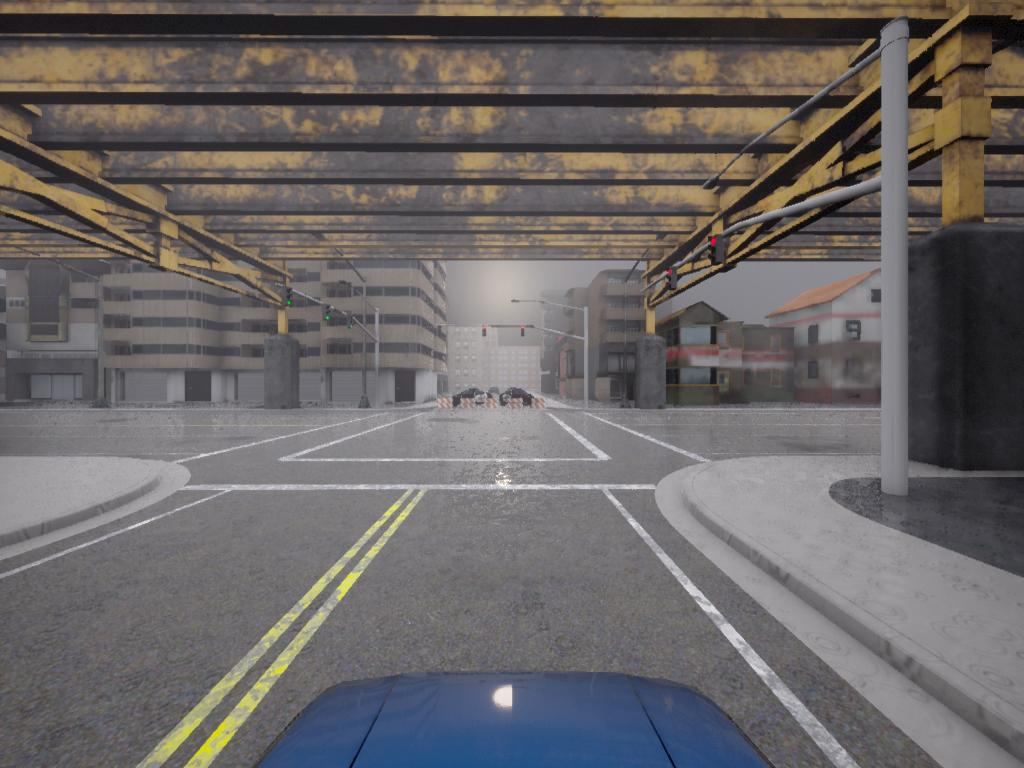traffic_light: (706, 233, 728, 267), (663, 267, 679, 292), (282, 286, 294, 313), (321, 305, 332, 324), (347, 311, 356, 334), (483, 325, 488, 339), (521, 325, 526, 338)
